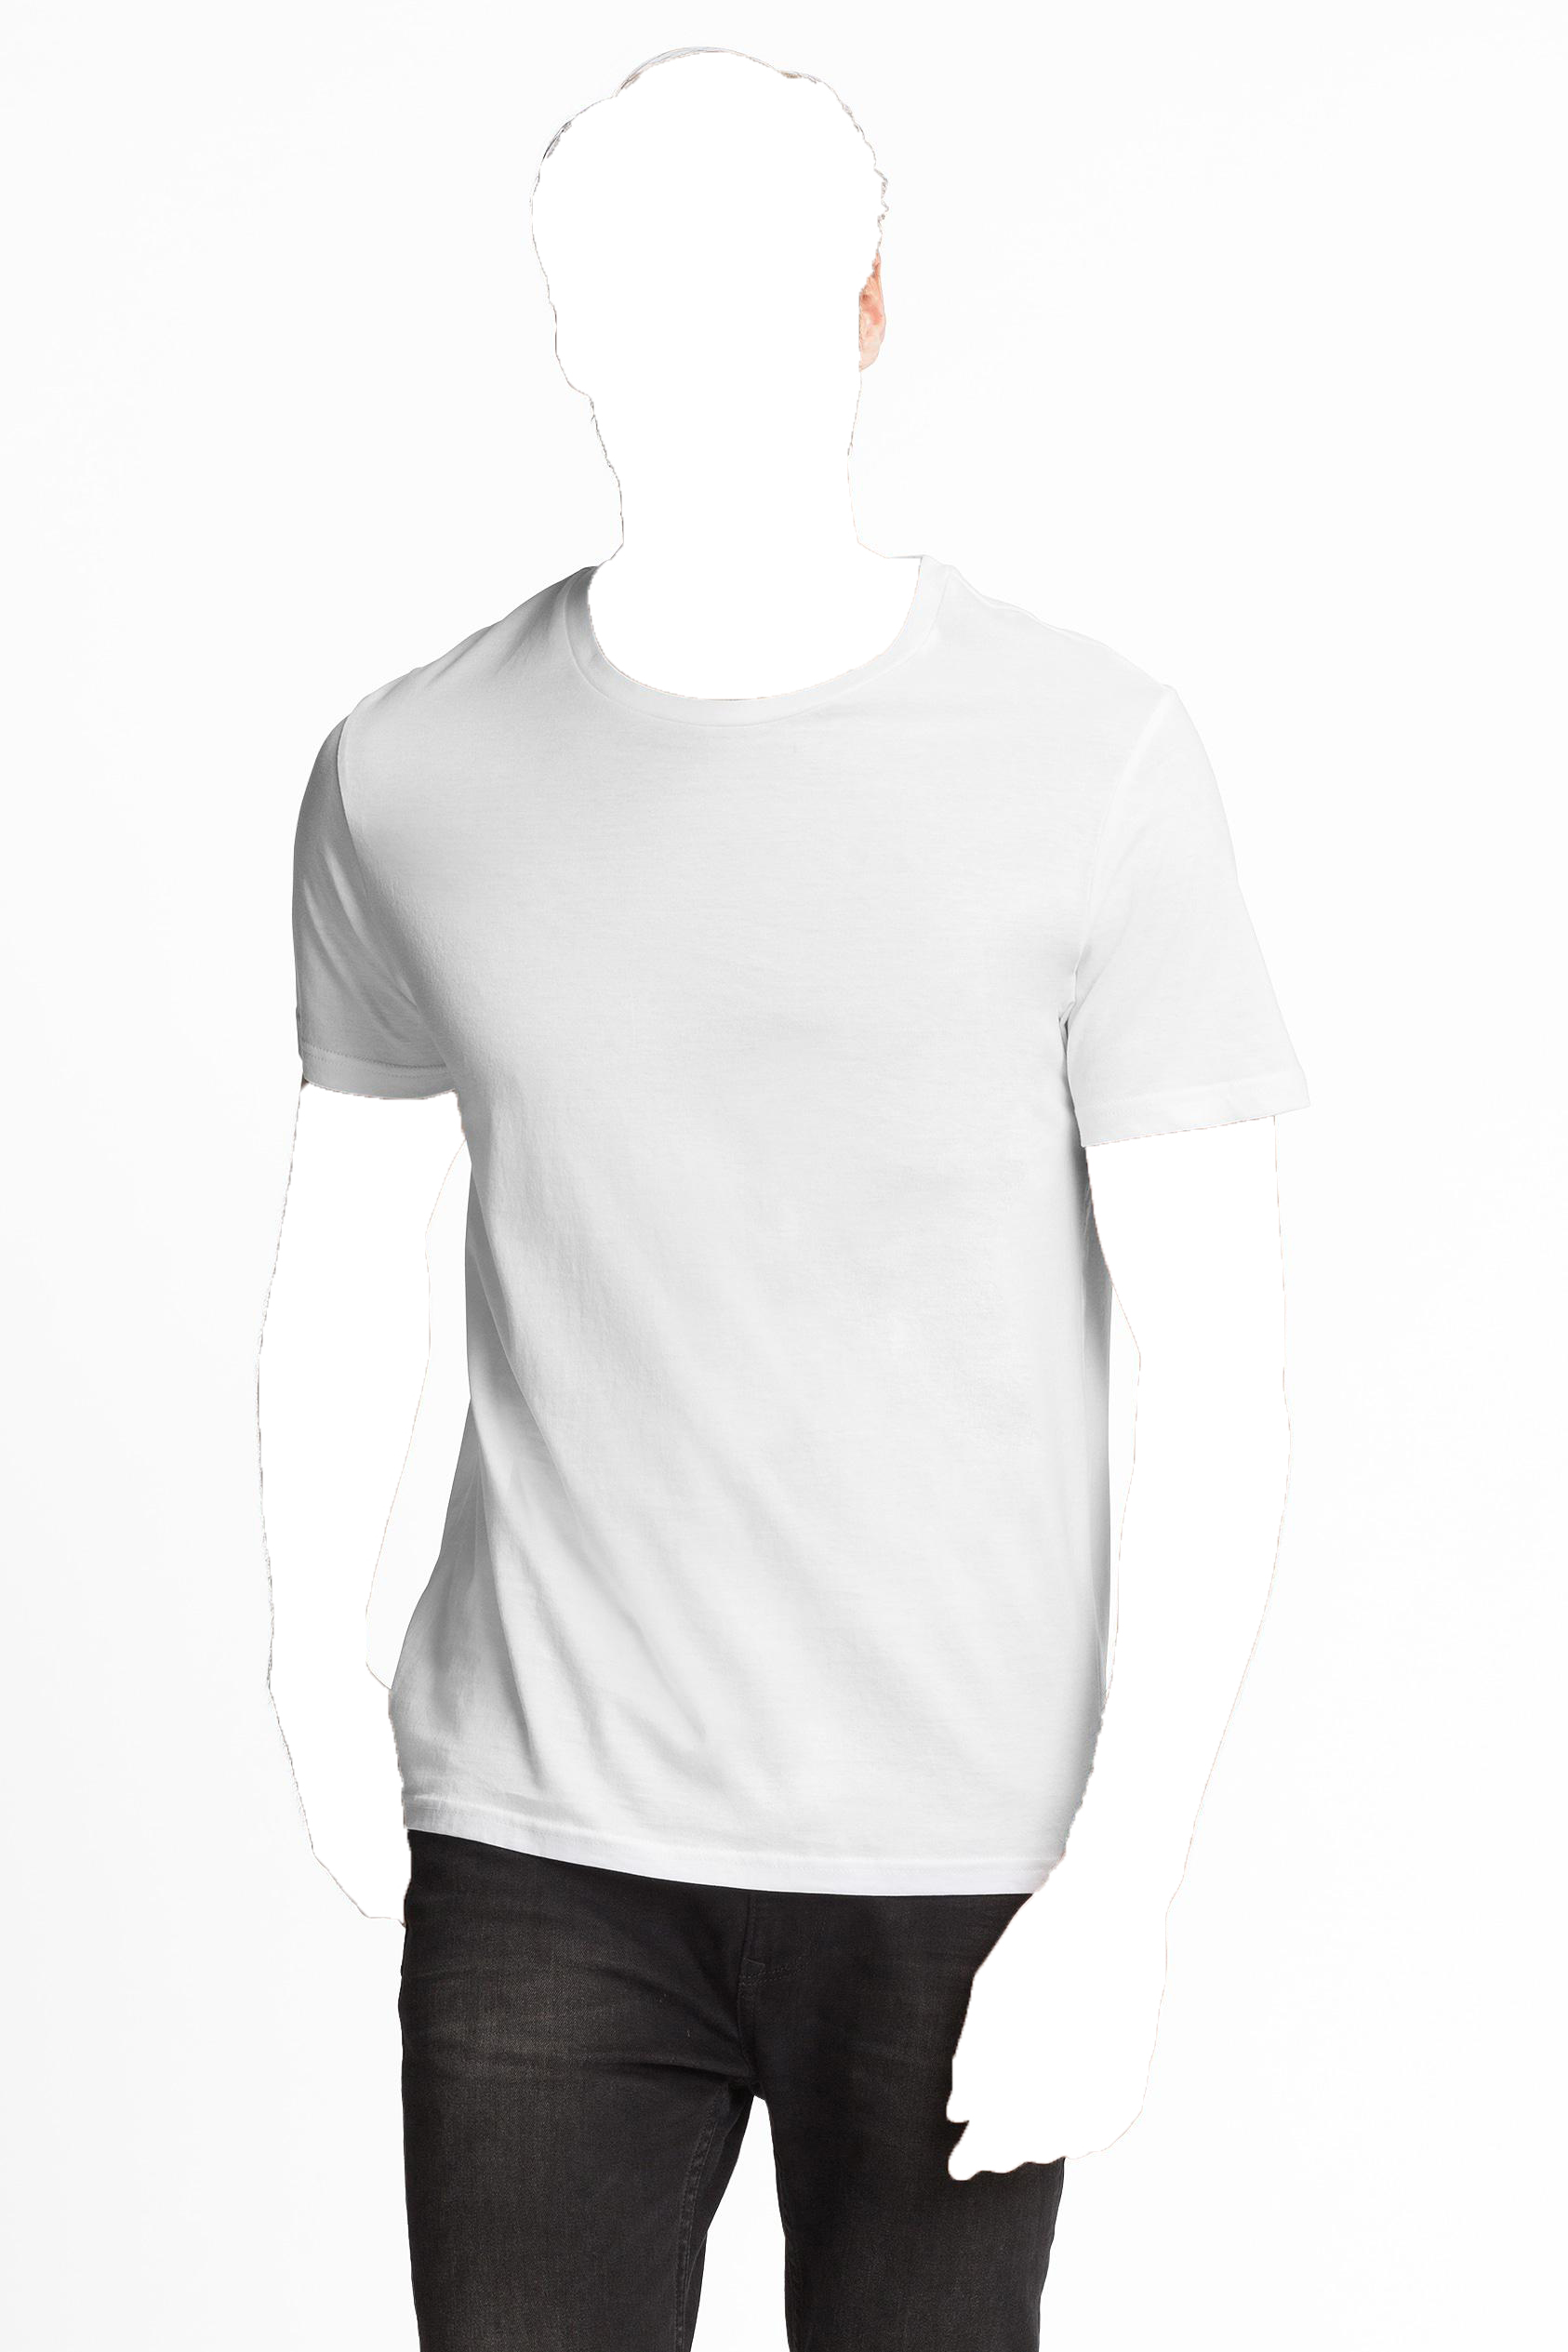teeshirt: (220, 567, 1319, 1906)
